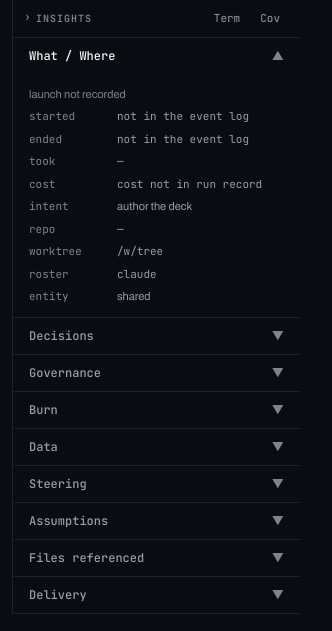
it: once the defs land › the ordinary workflow gets its section, its phase fact and its remedy
This screenshot has width=332, height=631.
What coordinates should you click on to do the following:
click the button "Delivery ▼"
I would click on:
 (58, 594)
Its box is x1=13 y1=576 x2=300 y2=612.
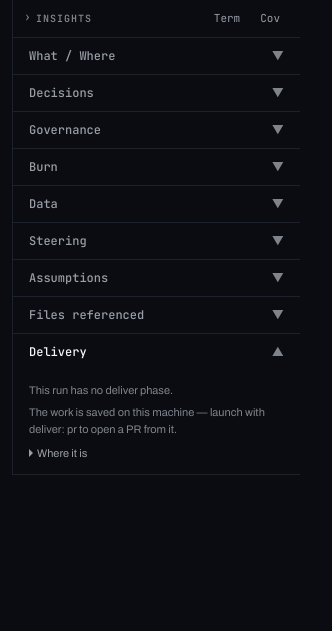
Check: the element with test id "run-delivery" shows "This run has no deliver phase.", box x1=29 y1=384 x2=173 y2=396
Check: the element with test id "run-delivery" shows "The work is saved on this machine — launch with deliver: pr to open a PR from it.", box x1=29 y1=382 x2=284 y2=462
